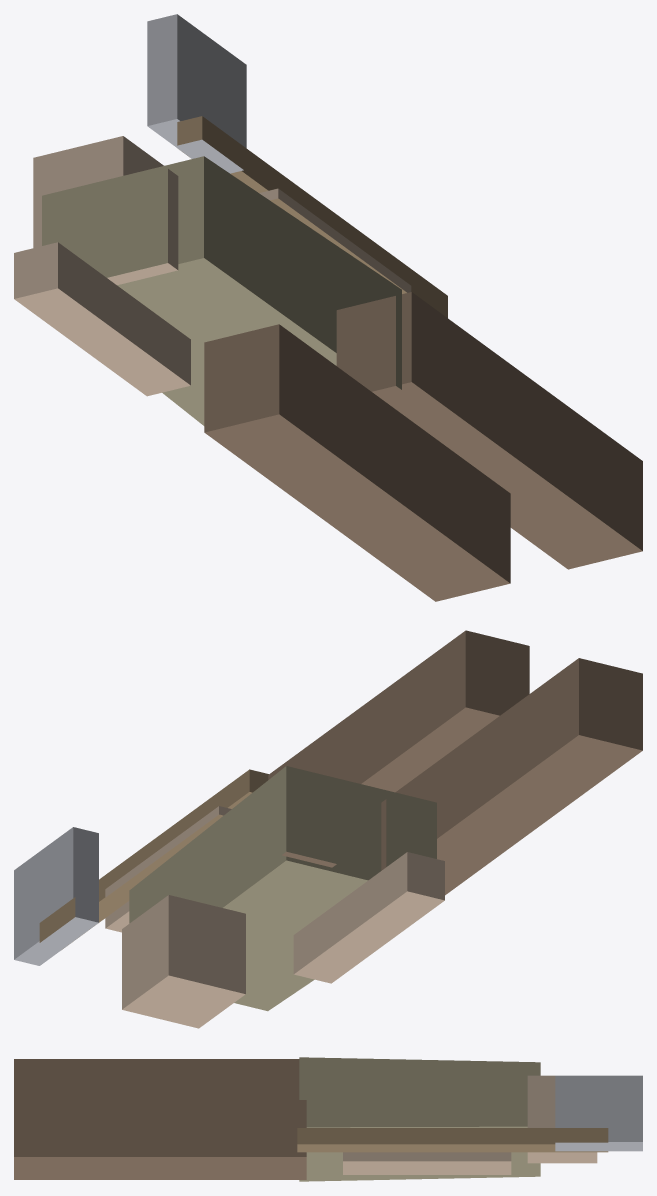
File: skirmishers.glb
3 renders of one model, top to bottom at view 1: azimuth 30°, elevation 25°; view 2: azimuth 150°, elevation 25°; view 3: azimuth 270°, elevation 25°, orthographic. The views are drawn at different scales.
Visible parts, largest first — view 1: skirmishers; view 2: skirmishers; view 3: skirmishers.
Boxes of the visible parts, <box> form: skirmishers: <box>14,14,642,601</box>; skirmishers: <box>14,630,642,1028</box>; skirmishers: <box>14,1057,642,1181</box>.
Bounding box in the file's own units: 0.534 × 0.3356 × 1.72.
